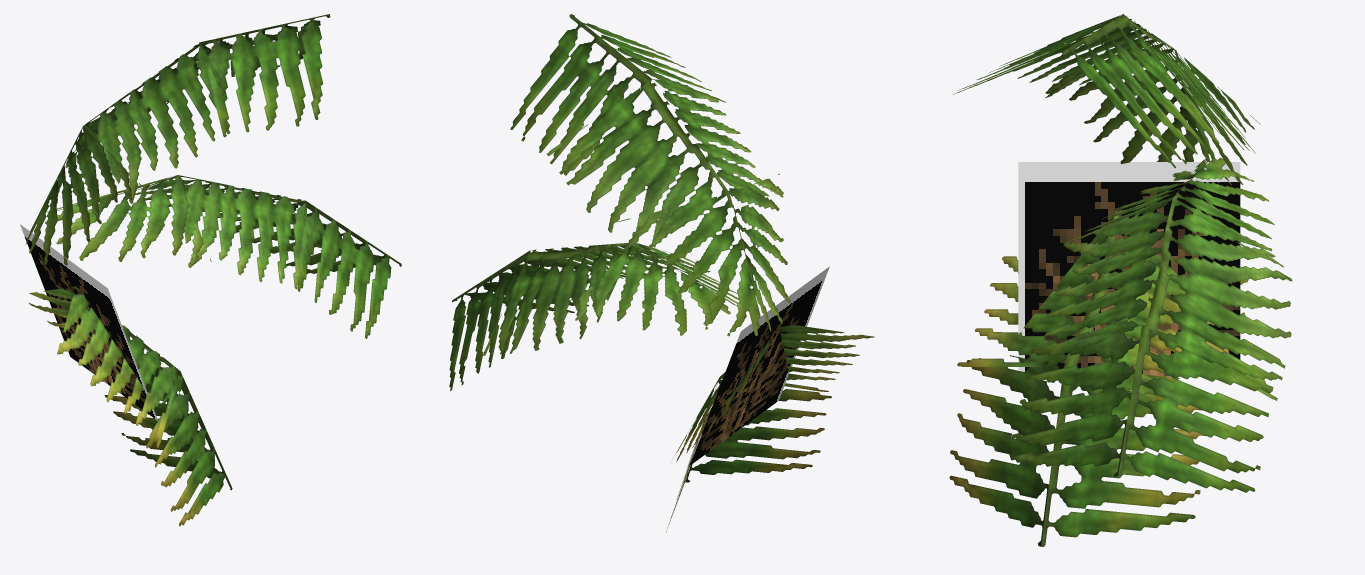
Rendered from caribbean_royal_palm_straight_2.obj.
3 views of the same model, side by side, from view 1: azimuth 30°, elevation 25°; view 2: azimuth 150°, elevation 25°; view 3: azimuth 270°, elevation 25° (orthographic). The views are drawn at different scales.
Parts seen in each view (by area): view 1: cube.231; view 2: cube.231; view 3: cube.231.
Boxes of the visible parts, x1=… form: cube.231: x1=20, y1=14, x2=401, y2=526; cube.231: x1=449, y1=14, x2=874, y2=531; cube.231: x1=949, y1=14, x2=1292, y2=546.
Size of the model in its own units: 3.81 by 4.33 by 2.8.
